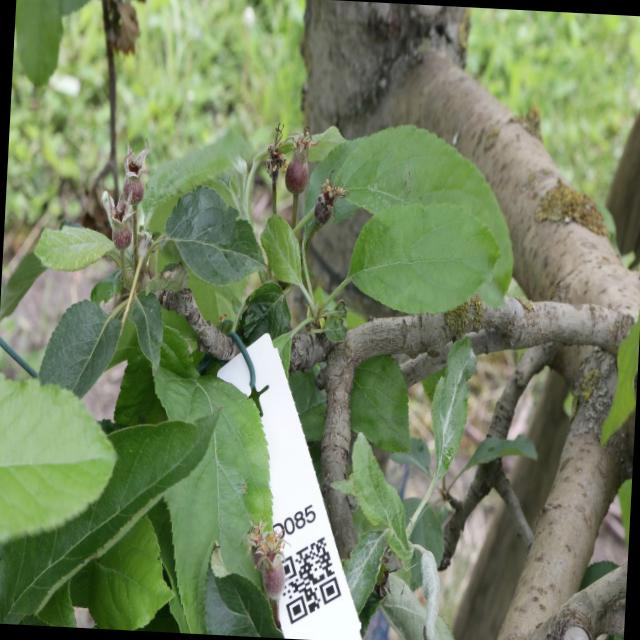-FireBlight-: (108, 0, 141, 57)
